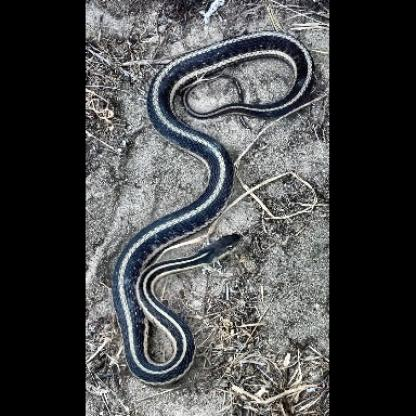Snake: (104, 29, 312, 388)
